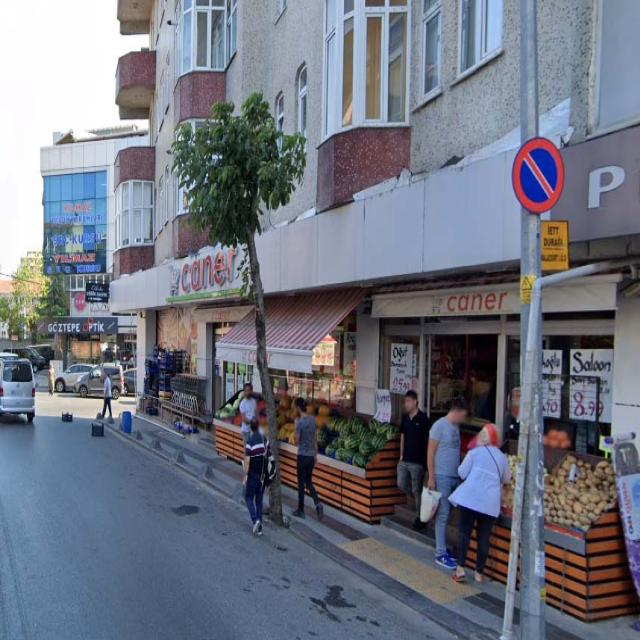parkyasak: (512, 138, 564, 216)
